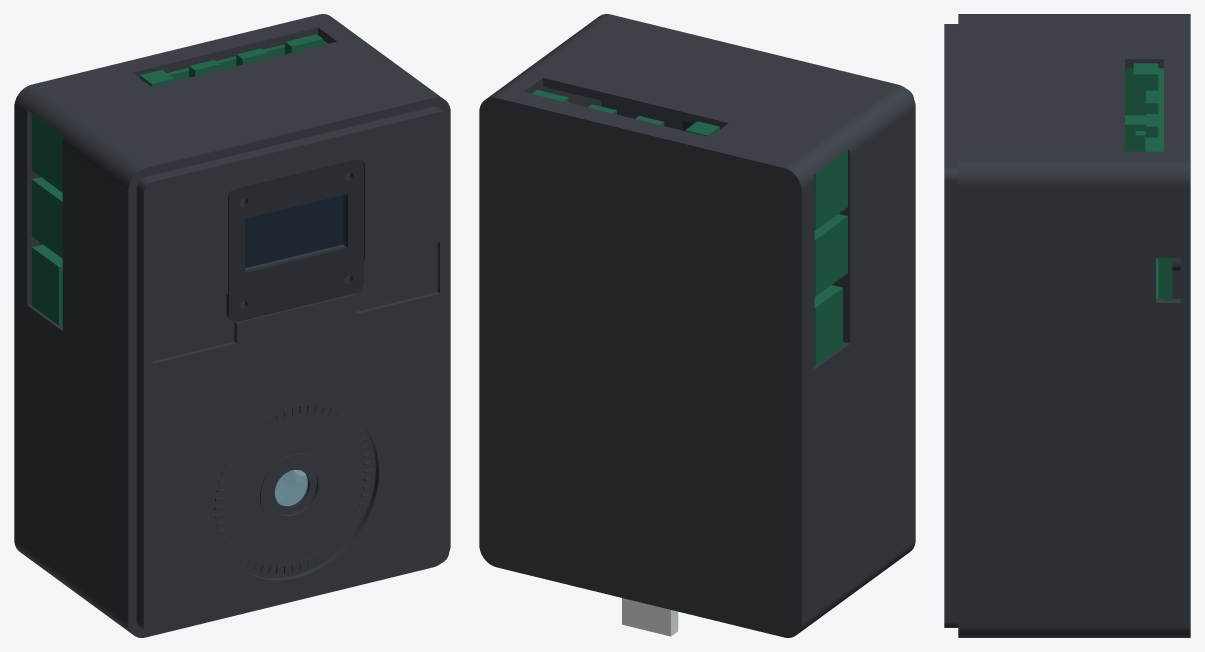
File: assembly_anim.glb
3 renders of one model, left to right at view 1: azimuth 30°, elevation 25°; view 2: azimuth 150°, elevation 25°; view 3: azimuth 270°, elevation 25°, orthographic.
Parts seen in each view (by area): view 1: shell_upper, shell_lower, oled_bezel, mock_pi4b, mock_oled, mock_touch_window, touch_collar; view 2: shell_lower, shell_upper, mock_pi4b, mock_cartridge; view 3: shell_upper, shell_lower, mock_pi4b.
Boxes of the visible parts, left/top/right/bottom form: shell_upper: left=67, top=52, right=450, bottom=637; shell_lower: left=14, top=14, right=381, bottom=588; oled_bezel: left=226, top=158, right=363, bottom=322; mock_pi4b: left=31, top=34, right=327, bottom=325; mock_oled: left=245, top=195, right=343, bottom=268; mock_touch_window: left=275, top=470, right=307, bottom=505; touch_collar: left=275, top=470, right=307, bottom=505; shell_lower: left=479, top=59, right=854, bottom=637; shell_upper: left=540, top=14, right=915, bottom=595; mock_pi4b: left=532, top=90, right=847, bottom=366; mock_cartridge: left=622, top=598, right=678, bottom=636; shell_upper: left=944, top=14, right=1083, bottom=637; shell_lower: left=1083, top=14, right=1190, bottom=637; mock_pi4b: left=1125, top=63, right=1172, bottom=300.
Bounding box in the file's own units: 92 × 137 × 59.8.
